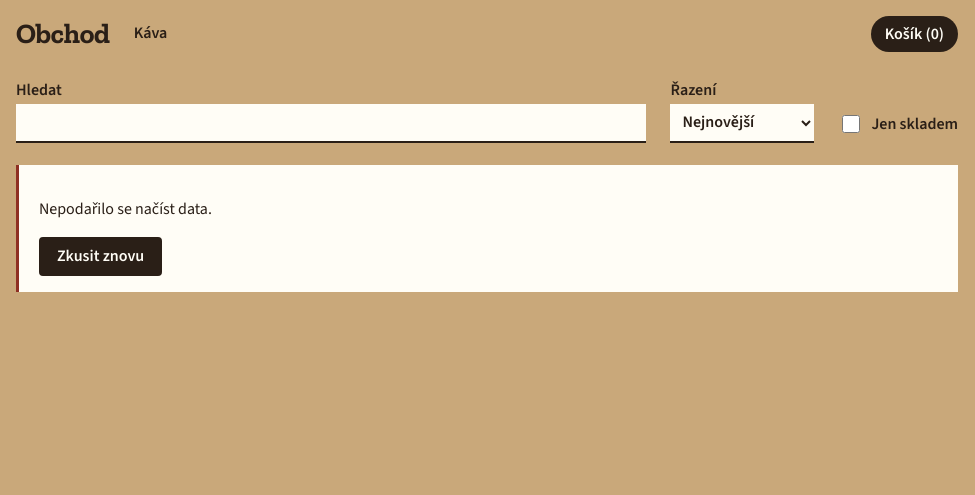
Test case: shows an error with retry
This screenshot has width=975, height=495.
Step 1. Click the button "Zkusit znovu" → coordinates (101, 256), box [39,237,162,276]
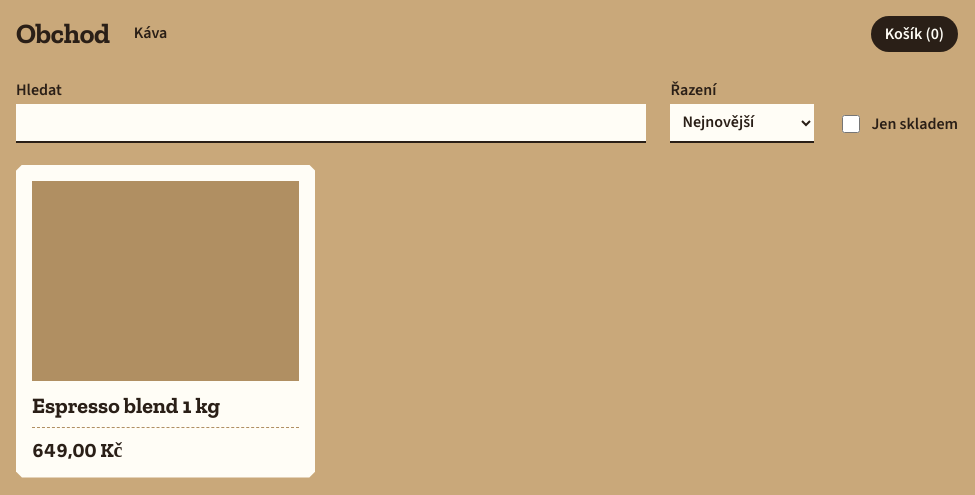
Now the text "Espresso blend 1 kg" is shown, box [32,392,220,419]
